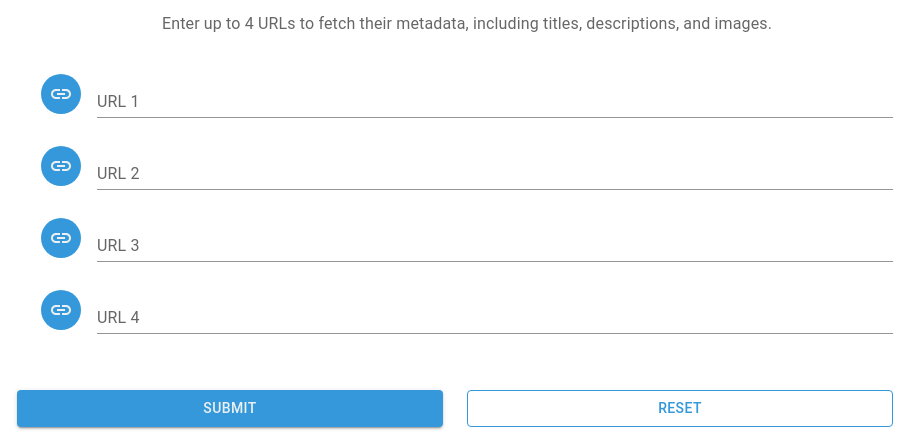
Test: UrlForm Component › should clear the form when the reset button is clicked
The width and height of the screenshot is (910, 447).
Type "https://example.com" into the field labelled "URL 1".
click(495, 102); type("https://example.com")  # box [97,86,893,118]
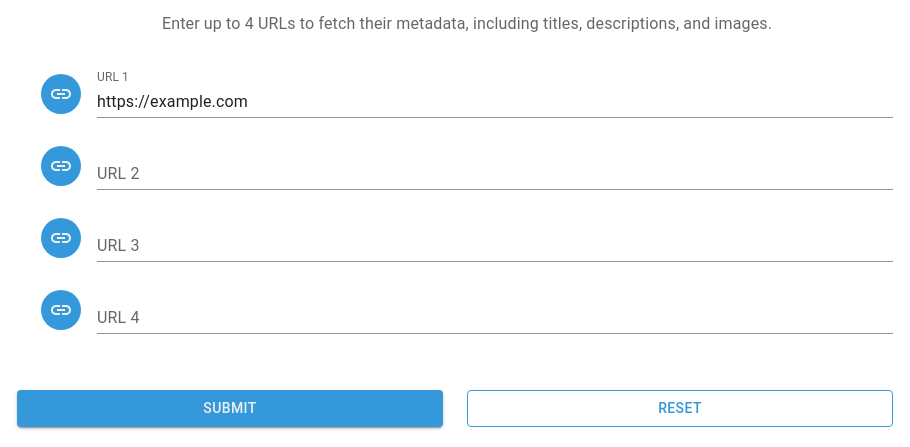
Click the button "Reset".
click(680, 408)  # box [467,390,893,426]
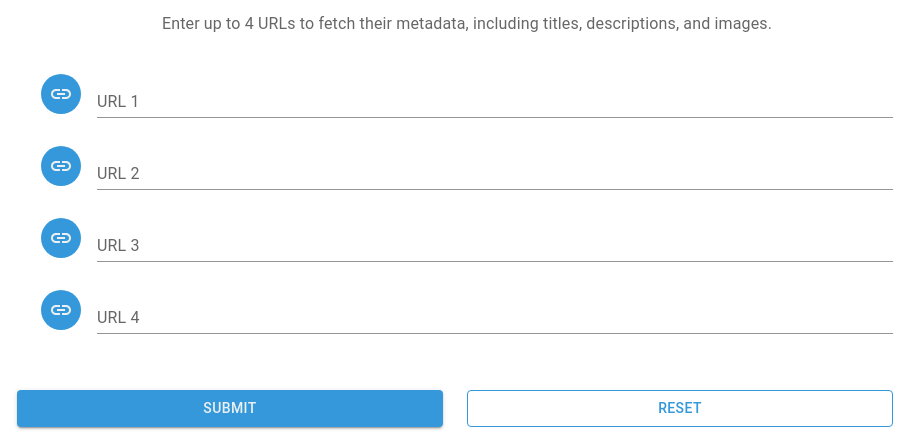
Result: the field labelled "URL 1" is empty at [97,86,893,118]
